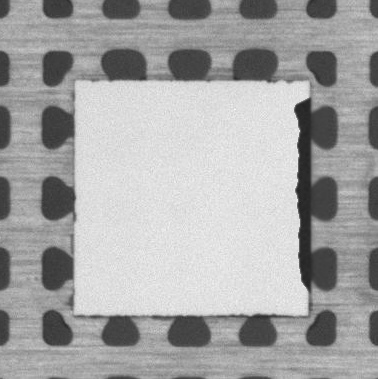DIE_BROKEN: (292, 97, 313, 291)
